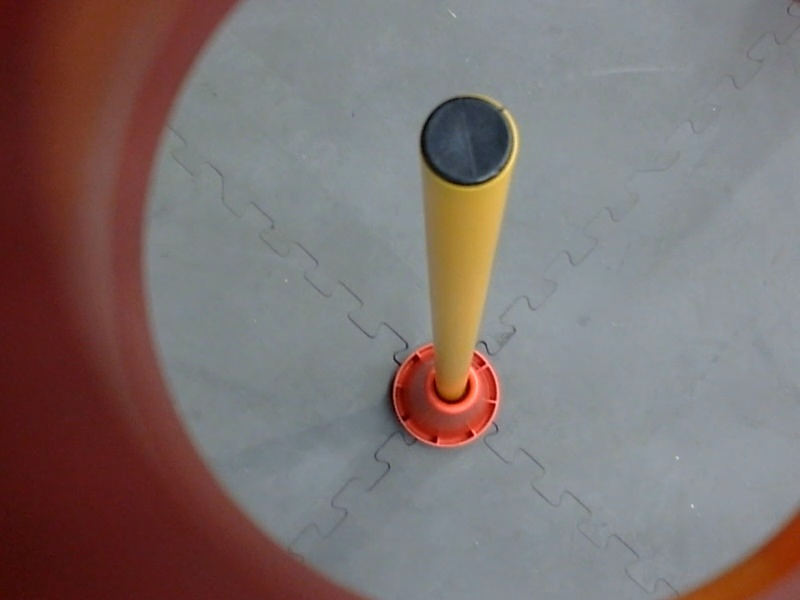tip: (406, 84, 525, 196)
